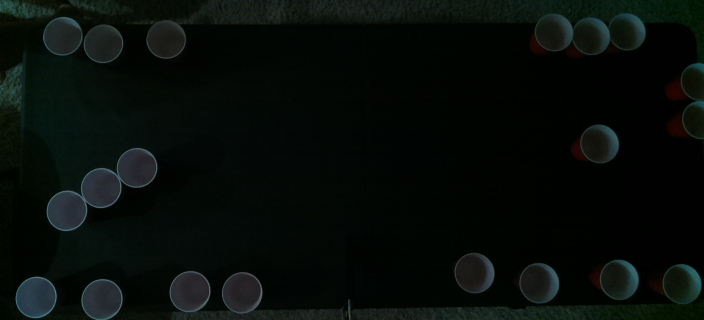active bp cup: (577, 123, 621, 164), (116, 147, 158, 188), (80, 167, 122, 208), (46, 190, 88, 230), (678, 99, 703, 141), (678, 61, 702, 100)
inactive bp cup: (517, 261, 560, 305), (451, 251, 495, 293), (168, 269, 210, 313), (598, 257, 640, 300), (220, 271, 263, 313), (15, 276, 57, 319), (79, 278, 123, 319), (660, 264, 702, 304), (532, 13, 573, 53), (41, 15, 81, 55), (145, 19, 186, 58), (82, 23, 123, 62), (607, 12, 646, 51), (572, 16, 610, 54)
